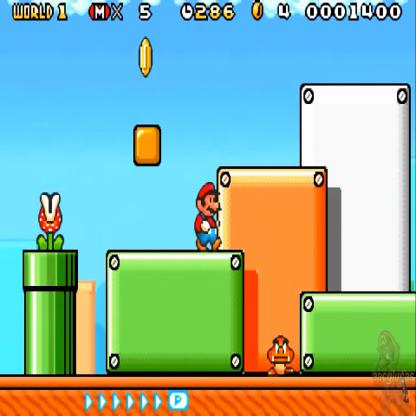Goomba: (264, 333, 296, 378)
Mario: (192, 179, 221, 252)
moneda: (137, 39, 155, 78), (250, 0, 265, 25)
planta carnivora: (35, 186, 66, 252)
